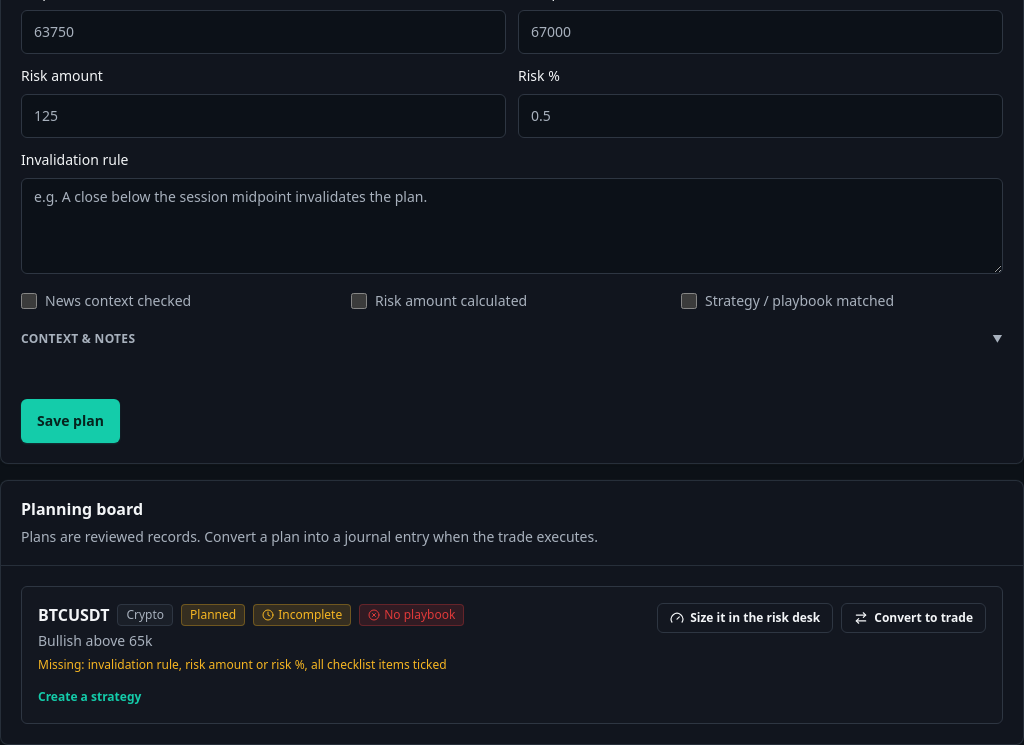
Test: the Persian page calls a plan پلن › says the same in English, with plan as the noun
The width and height of the screenshot is (1024, 745).
(page scrolled)
Click the button "Convert to trade" at (914, 618), box [841,603,986,633]
(page scrolled)
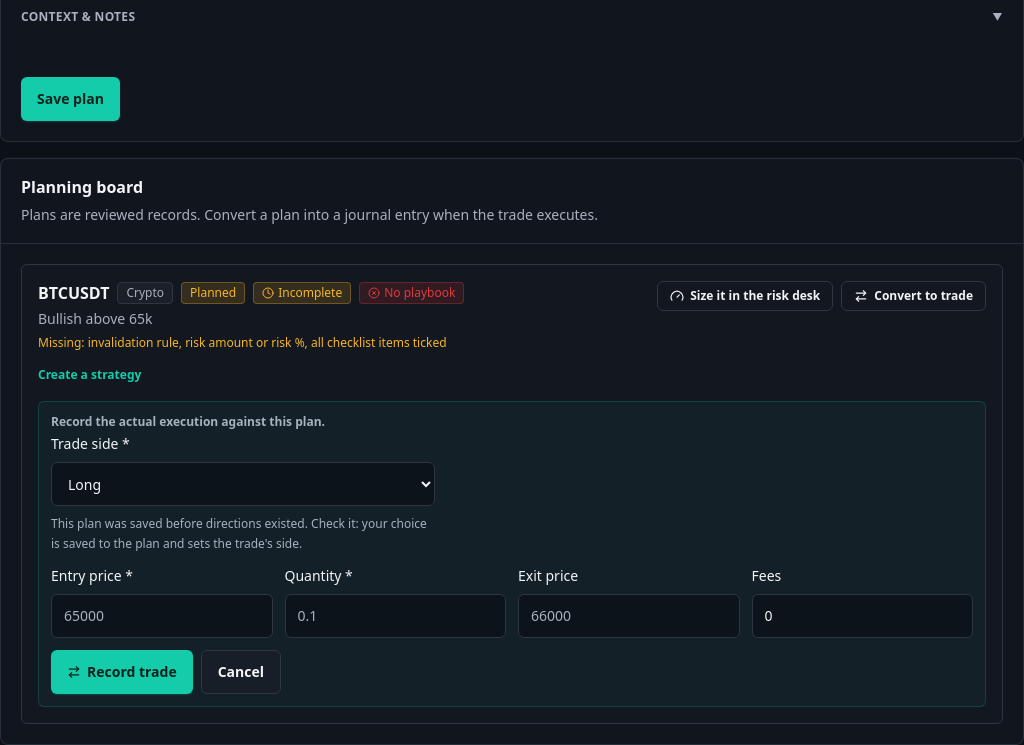
expect the text "saved before directions existed" is shown: met, box [51,515,427,552]
